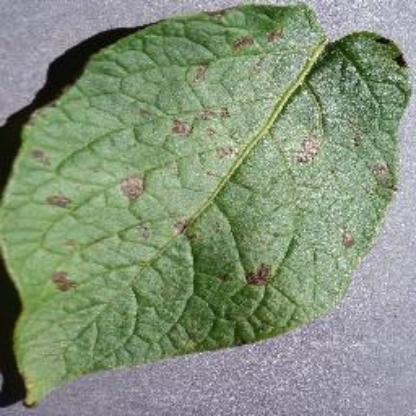Early-Blight: (11, 2, 413, 406)
